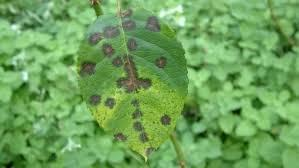leaf_spot: (75, 20, 193, 156)
